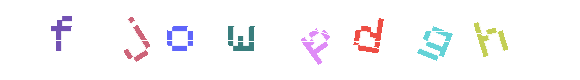D: (275, 0, 355, 80)
F: (21, 0, 101, 80)
G: (395, 0, 475, 80)
H: (449, 0, 529, 80)
J: (139, 0, 219, 80)
O: (201, 0, 281, 80)
P: (249, 0, 329, 80)
W: (236, 0, 316, 80)
